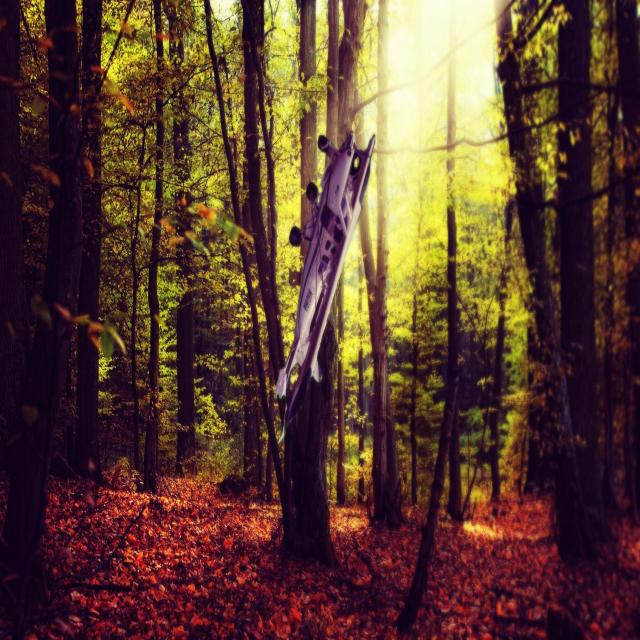airplane: (275, 128, 376, 445)
